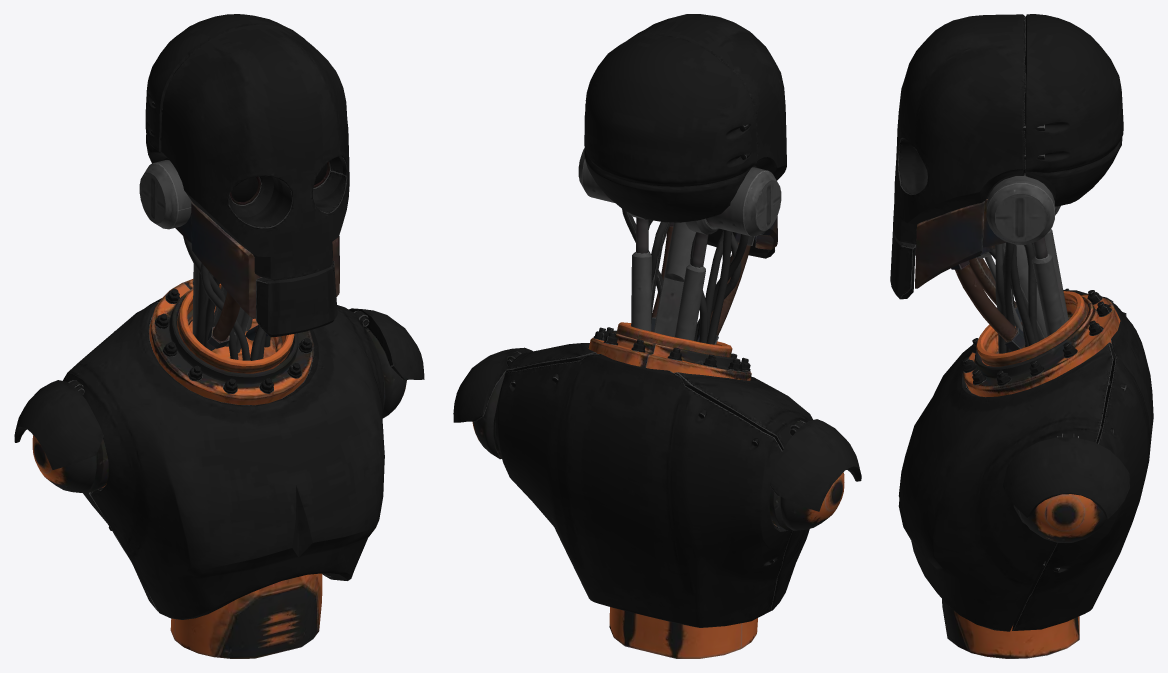
The model's file is robot_copernicus-transformed.glb.
3 views of the same model, side by side, from view 1: azimuth 30°, elevation 25°; view 2: azimuth 150°, elevation 25°; view 3: azimuth 270°, elevation 25° (orthographic).
Visible parts, largest first — view 1: Object_2; view 2: Object_2; view 3: Object_2.
Part boxes in pixels (left/top/right/bottom): Object_2: left=14, top=14, right=424, bottom=658; Object_2: left=453, top=14, right=861, bottom=658; Object_2: left=890, top=14, right=1153, bottom=658.
Size of the model in its own units: 1.33 by 2 by 0.791.
1 material, 1 textured.
